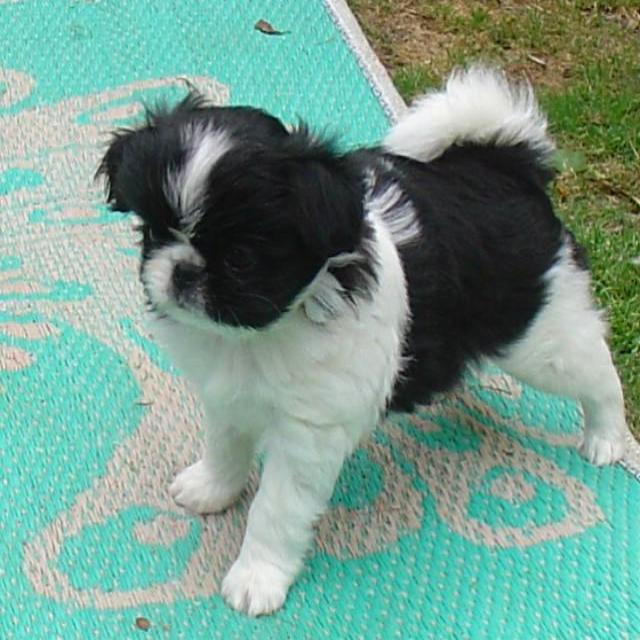husky: (79, 38, 636, 625)
